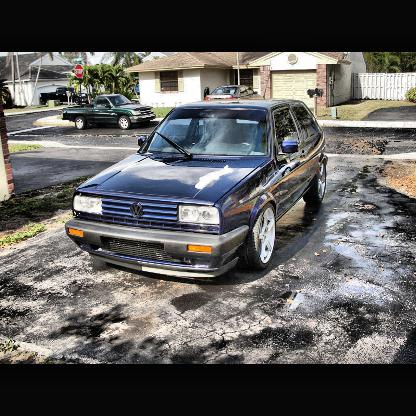Volkswagen Golf Hatchback 1991: (65, 99, 327, 279)
